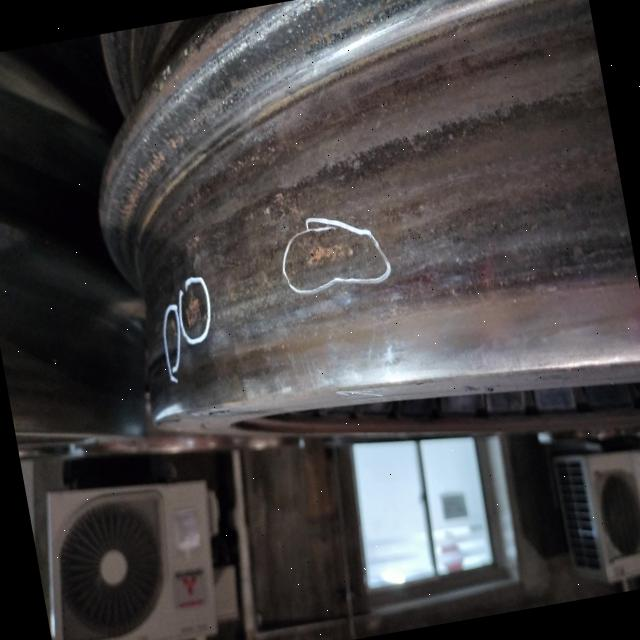Blue hole: (182, 287, 209, 329), (163, 317, 182, 343)
Peeling: (299, 231, 366, 274)
